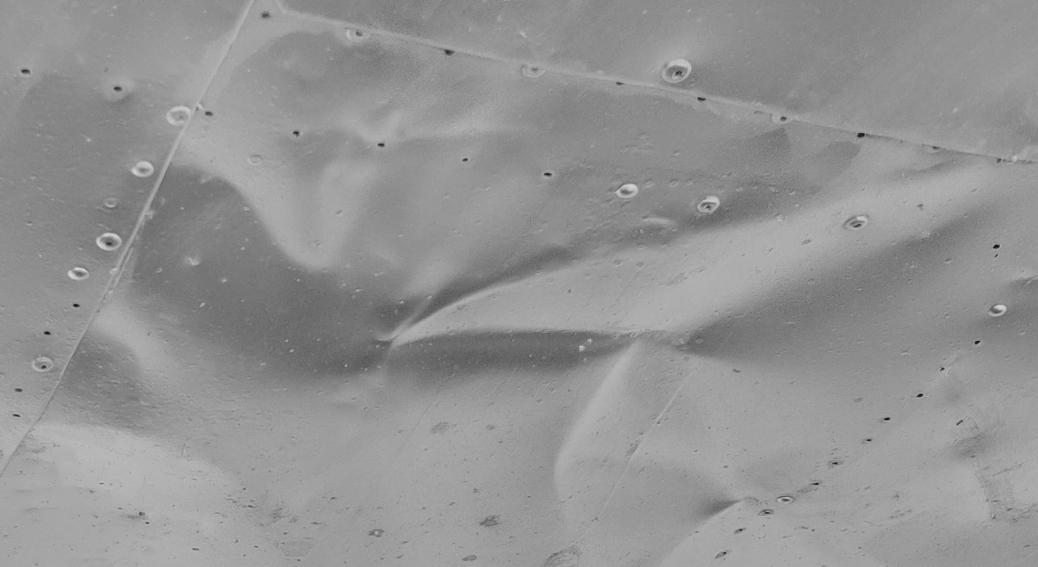dent: (1, 1, 1038, 567)
